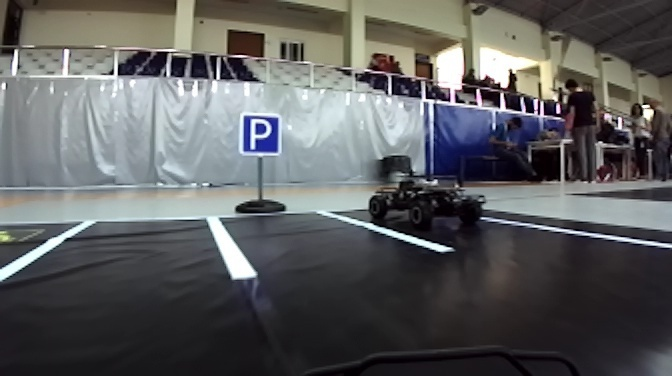park: (240, 113, 284, 159)
